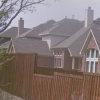Chimney: (79, 2, 95, 32)
